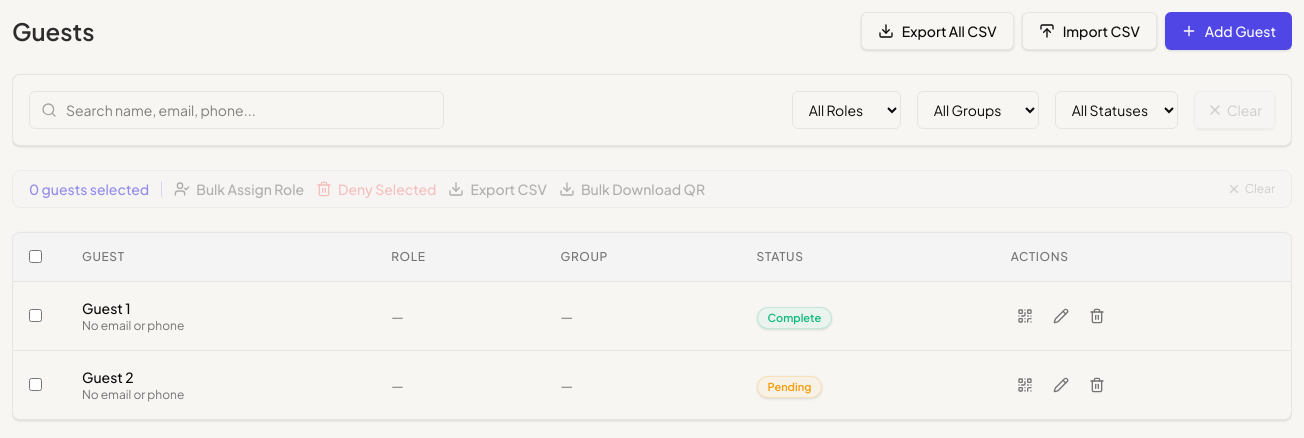
Scenario: GuestsTab Row Selection › US2: select all checkbox selects all current page guests
This screenshot has width=1304, height=438.
Click the checkbox in the row of "Group". click: (36, 256)
box: [29,250,42,263]
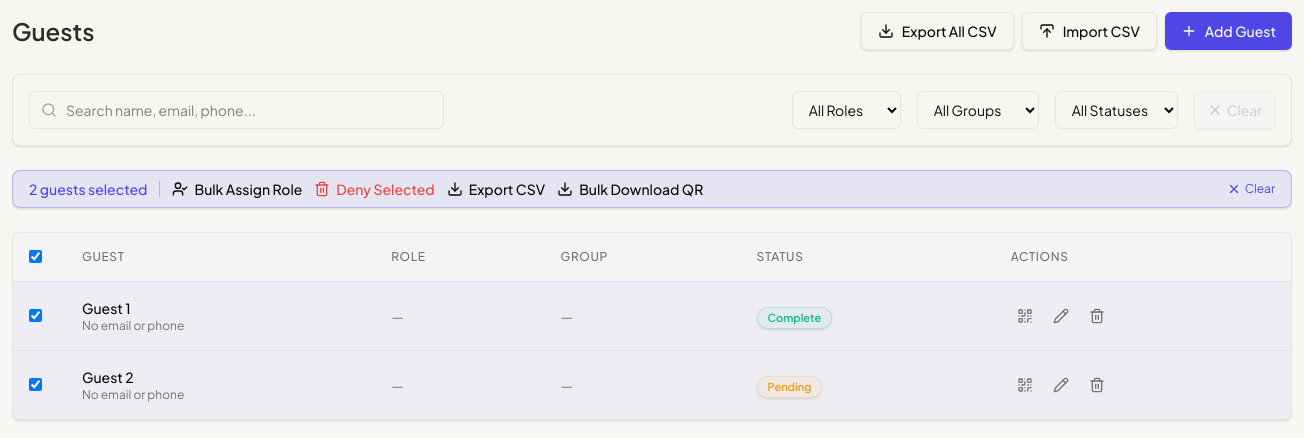
Expected: the text "2 guests selected" is shown, [29,179,147,199]
Expected: the checkbox next to "Guest 1" is checked, [29,309,42,322]
Expected: the checkbox next to "Guest 2" is checked, [29,378,42,391]
